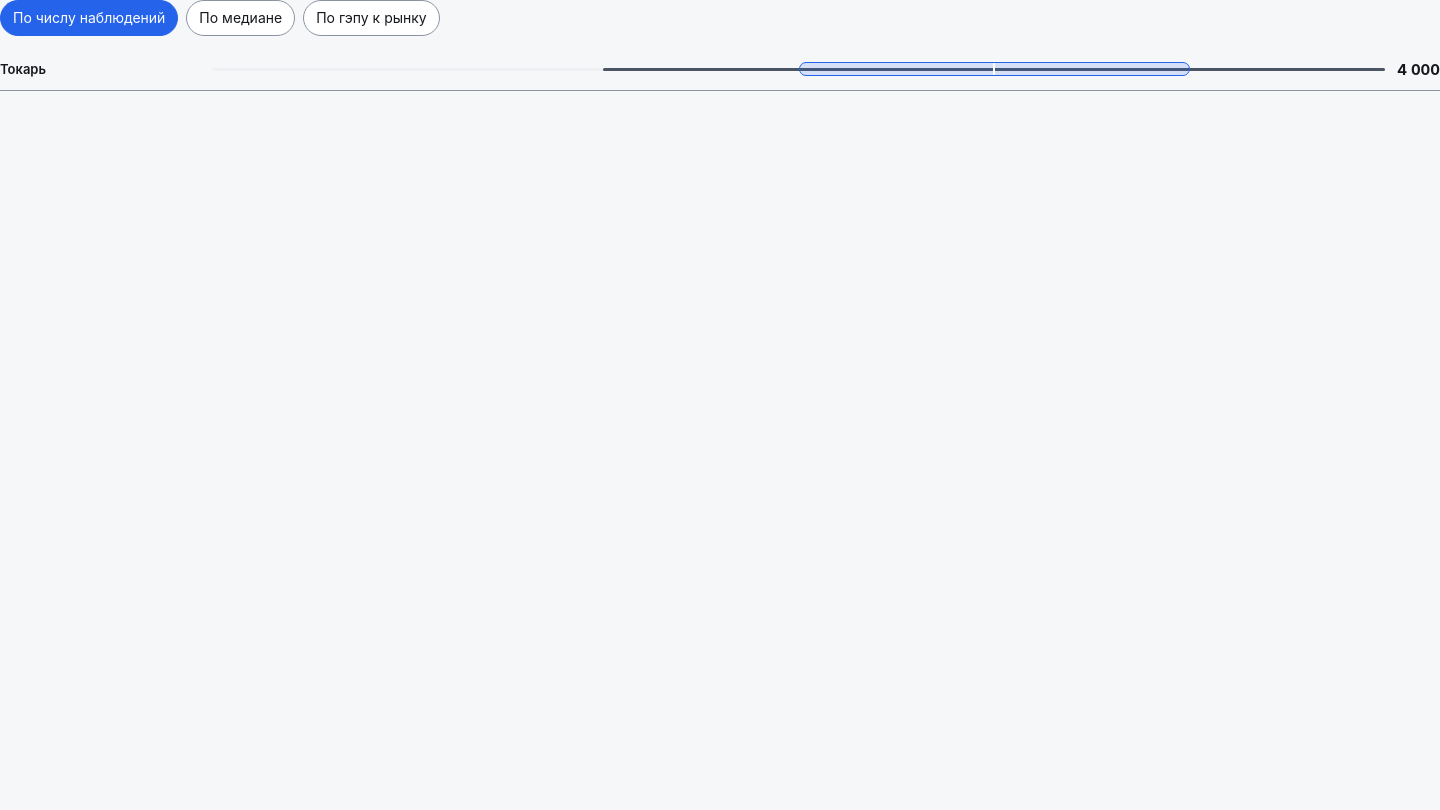
Test: клик по строке открывает шторку с компаниями
The image size is (1440, 810).
Click the text "Токарь" at {"x": 23, "y": 69}, box 0,61 -> 46,77
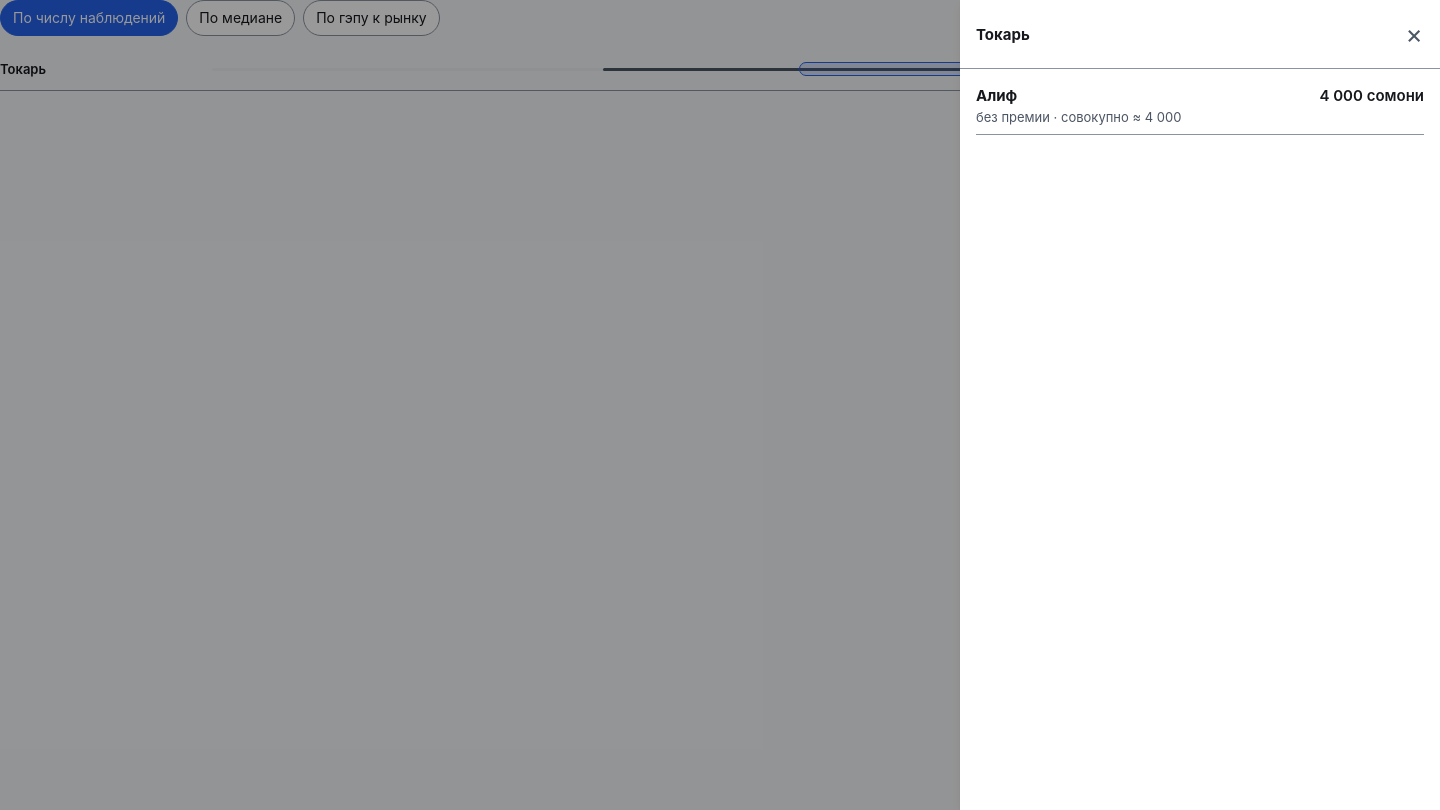
Now the text "Алиф" is shown, box 976,85 -> 1017,106
Now the text "без премии · совокупно ≈ 4 000" is shown, box 976,109 -> 1181,125
